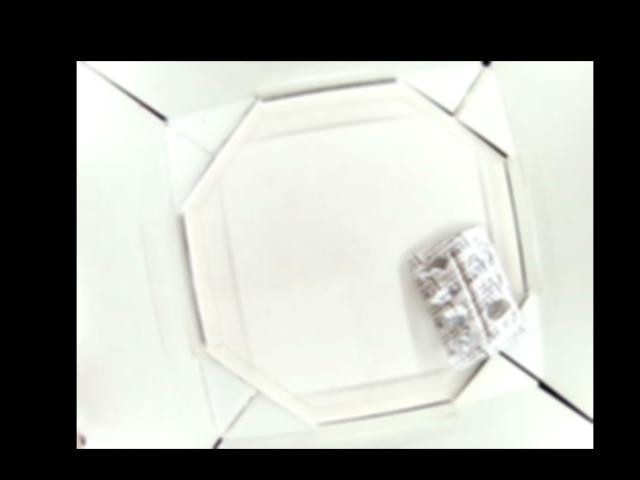Medicine: (407, 223, 526, 366)
